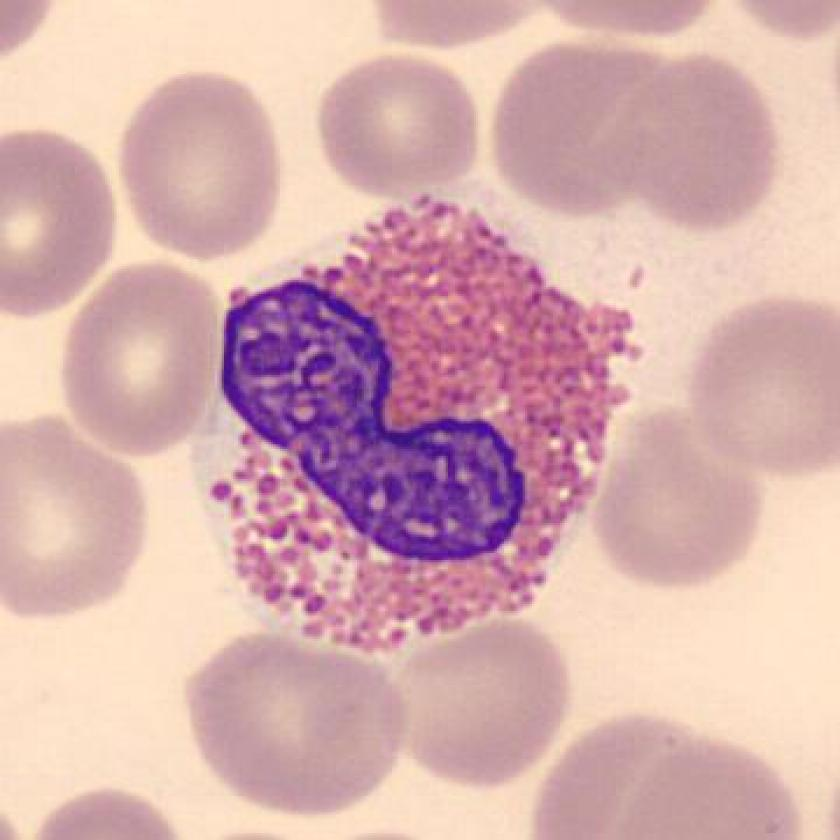eosinophil: (179, 177, 655, 667)
